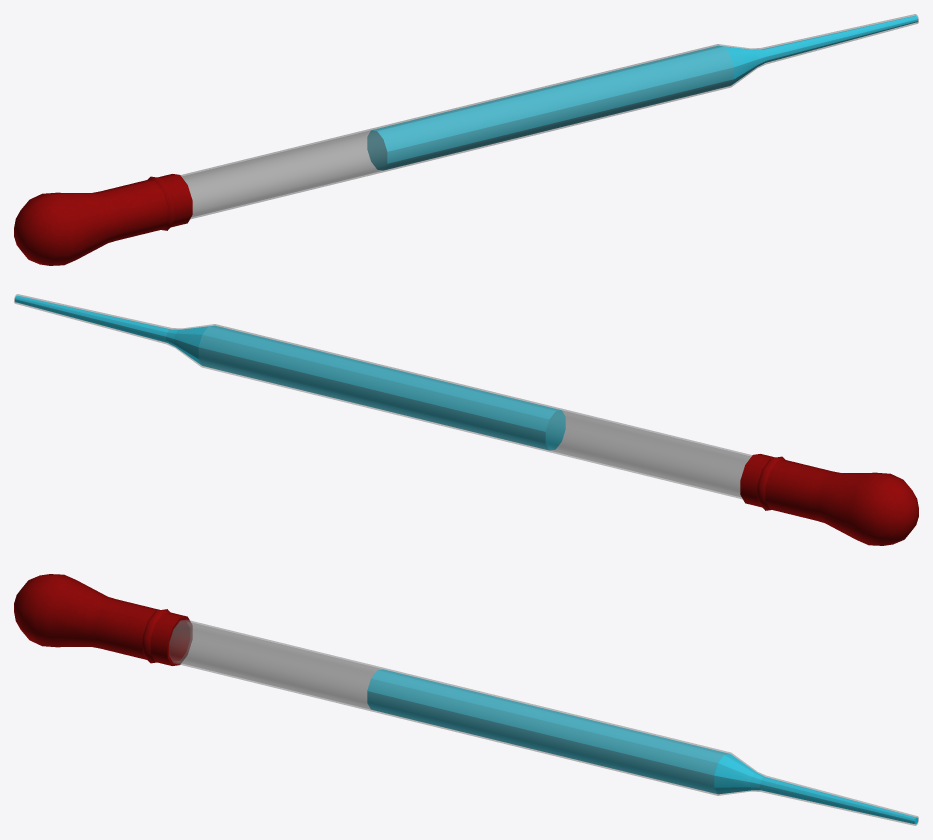
File: SM_胶头滴管.FBX
The picture shows the model from 3 angles, top to bottom: view 1: azimuth 30°, elevation 25°; view 2: azimuth 150°, elevation 25°; view 3: azimuth 330°, elevation 25°; orthographic projection.
Parts seen in each view (by area): view 1: SM_胶头滴管; view 2: SM_胶头滴管; view 3: SM_胶头滴管.
Boxes of the visible parts, bbox=[...] form: SM_胶头滴管: bbox=[14, 14, 918, 265]; SM_胶头滴管: bbox=[14, 294, 918, 545]; SM_胶头滴管: bbox=[14, 574, 918, 825].
Bounding box in the file's own units: 59.56 × 4.33 × 4.12.
